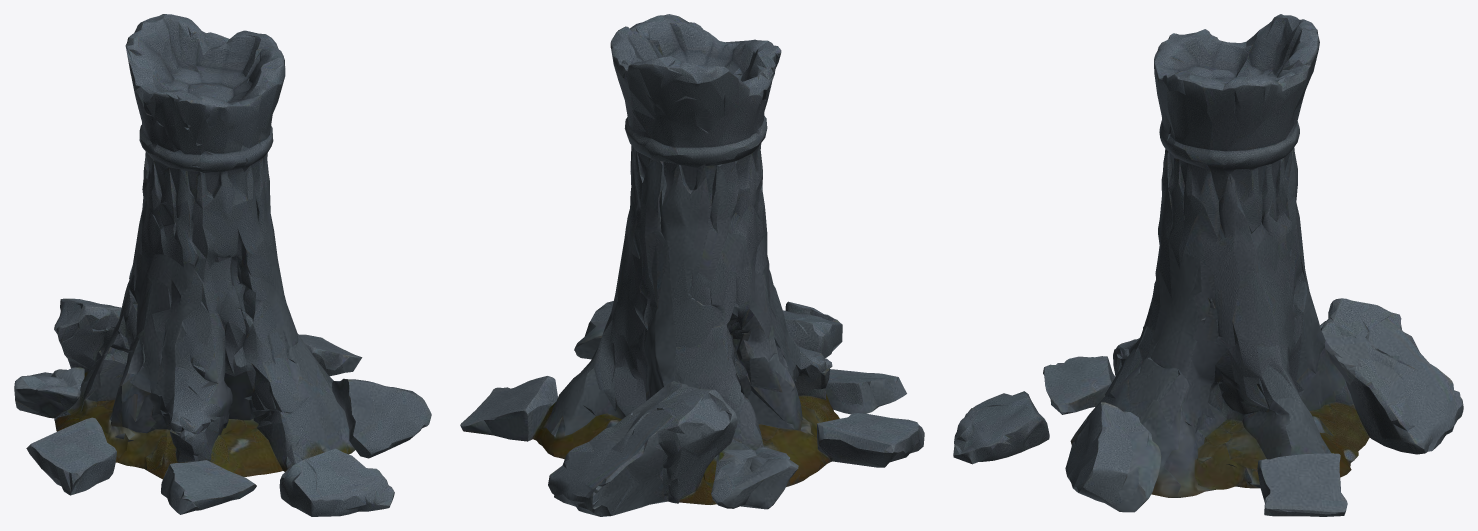
File: decor-pillar.glb
3 renders of one model, left to right at view 1: azimuth 30°, elevation 25°; view 2: azimuth 150°, elevation 25°; view 3: azimuth 270°, elevation 25°, orthographic. The views are drawn at different scales.
Bounding box in the file's own units: 1.61 × 1.64 × 1.9.
Materials: 1 (1 with a texture image).
